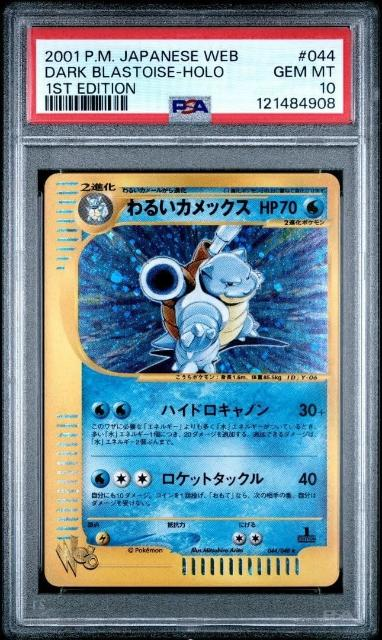Card: (37, 169, 344, 592)
Name: (121, 194, 255, 222)
